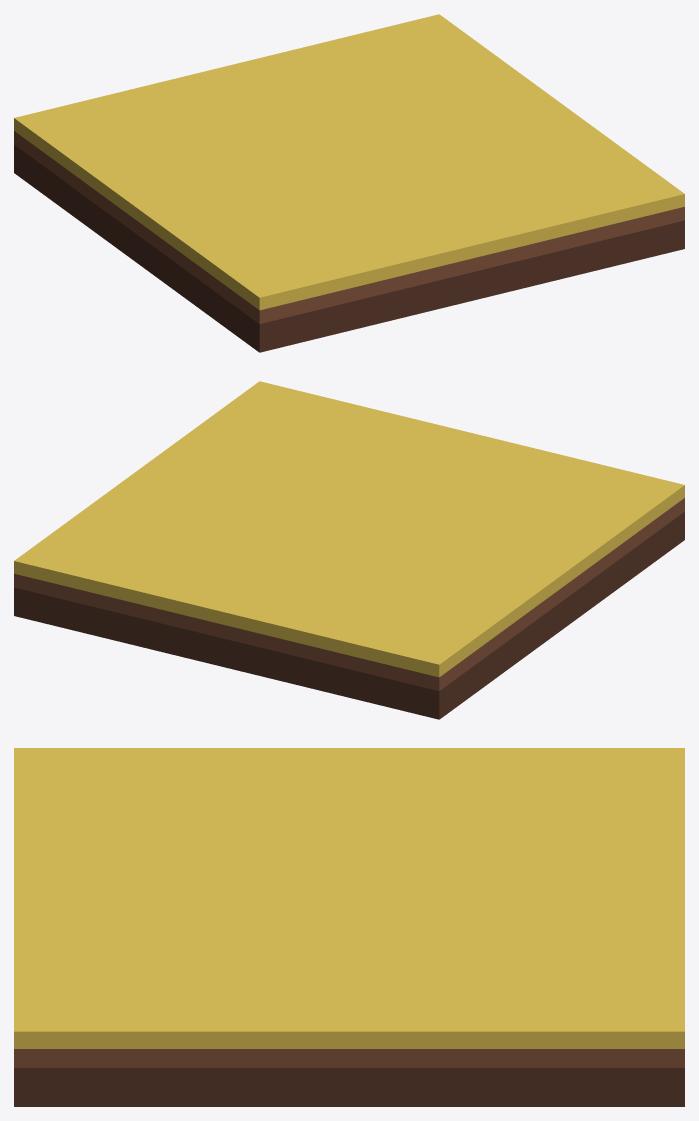
Rendered from sand-tile.fbx.
The picture shows the model from 3 angles, top to bottom: view 1: azimuth 30°, elevation 25°; view 2: azimuth 150°, elevation 25°; view 3: azimuth 270°, elevation 25°; orthographic projection. The views are drawn at different scales.
Parts seen in each view (by area): view 1: Cube.001; view 2: Cube.001; view 3: Cube.001.
Part boxes in pixels (box(x1,y1,x2,y2)): Cube.001: box(14, 14, 684, 352); Cube.001: box(14, 381, 684, 719); Cube.001: box(14, 748, 684, 1106).
Bounding box in the file's own units: 400 × 49.43 × 400.
